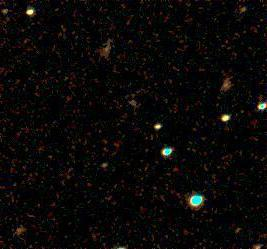star: (226, 99, 256, 129)
